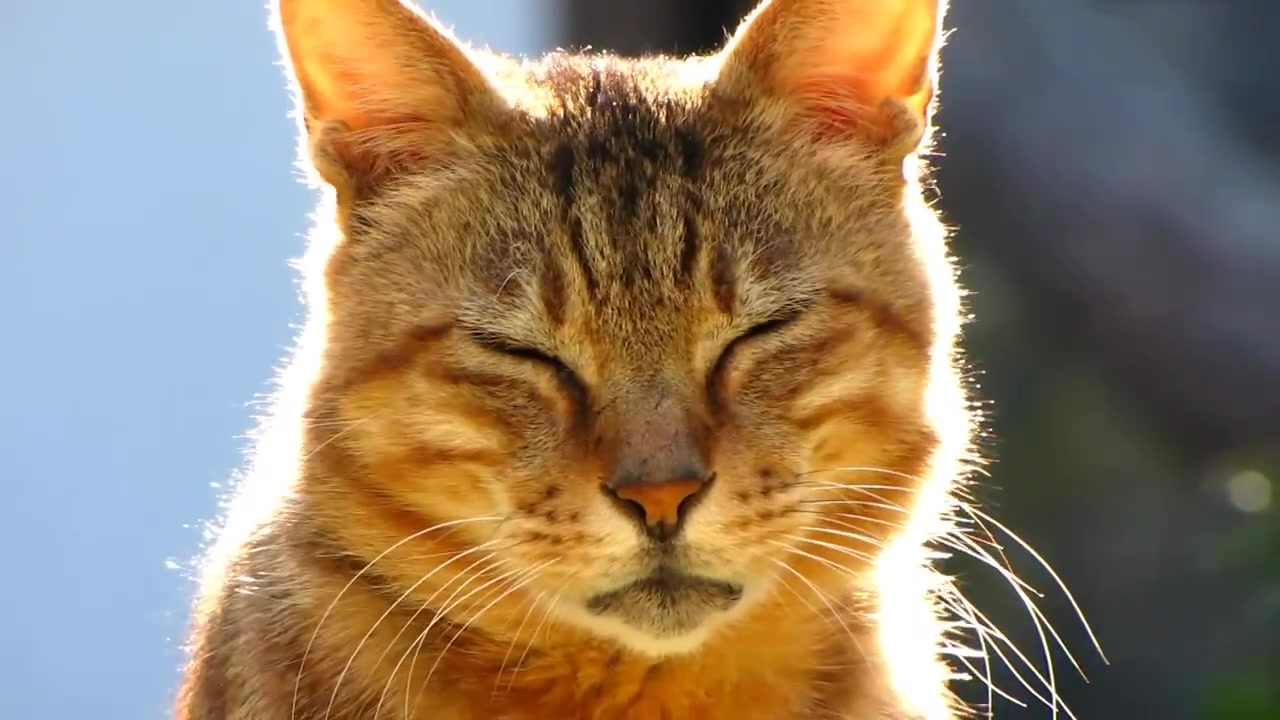cat: (174, 4, 997, 720)
